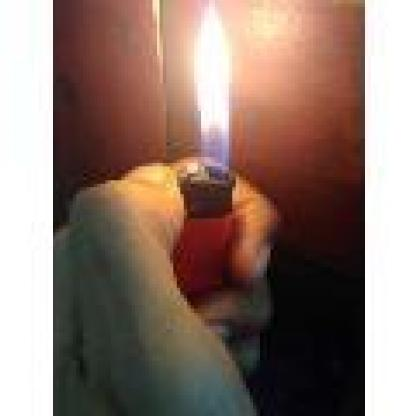Fire: (189, 3, 234, 156)
